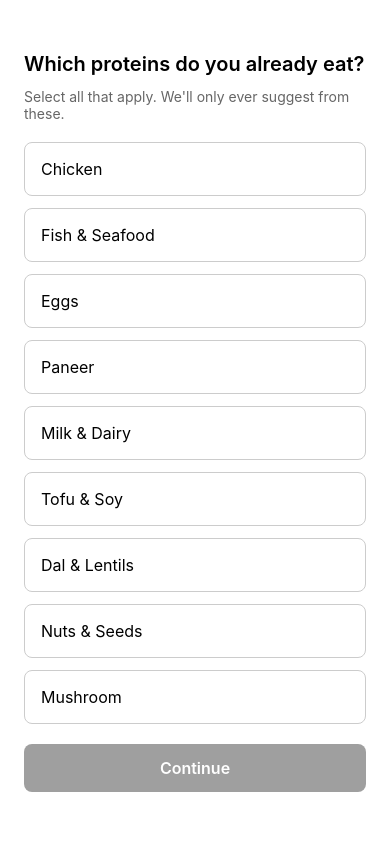
Test: ProteinPreferencesScreen - diet-type filtering › disables continue until at least one protein is selected
Expected: the element with test id "protein-preferences-continue-button" is disabled, [24,744,366,792]
Click the element with test id "protein-option-chicken": click(195, 169) [24,142,366,196]
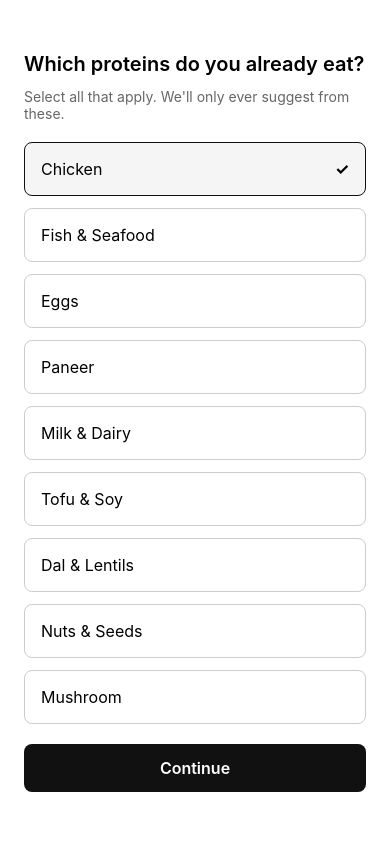
Expected: the element with test id "protein-preferences-continue-button" is enabled, [24,744,366,792]
